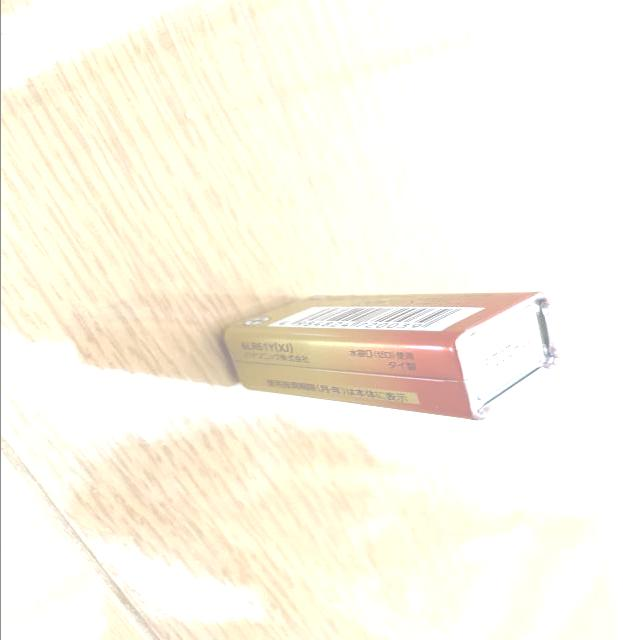9V: (218, 291, 563, 420)
